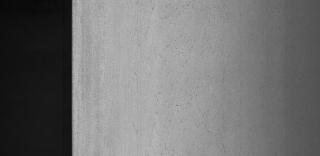silk spot: (129, 0, 213, 122)
